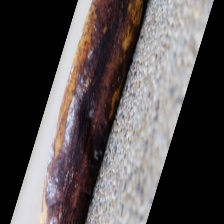banana: (36, 33, 171, 224)
